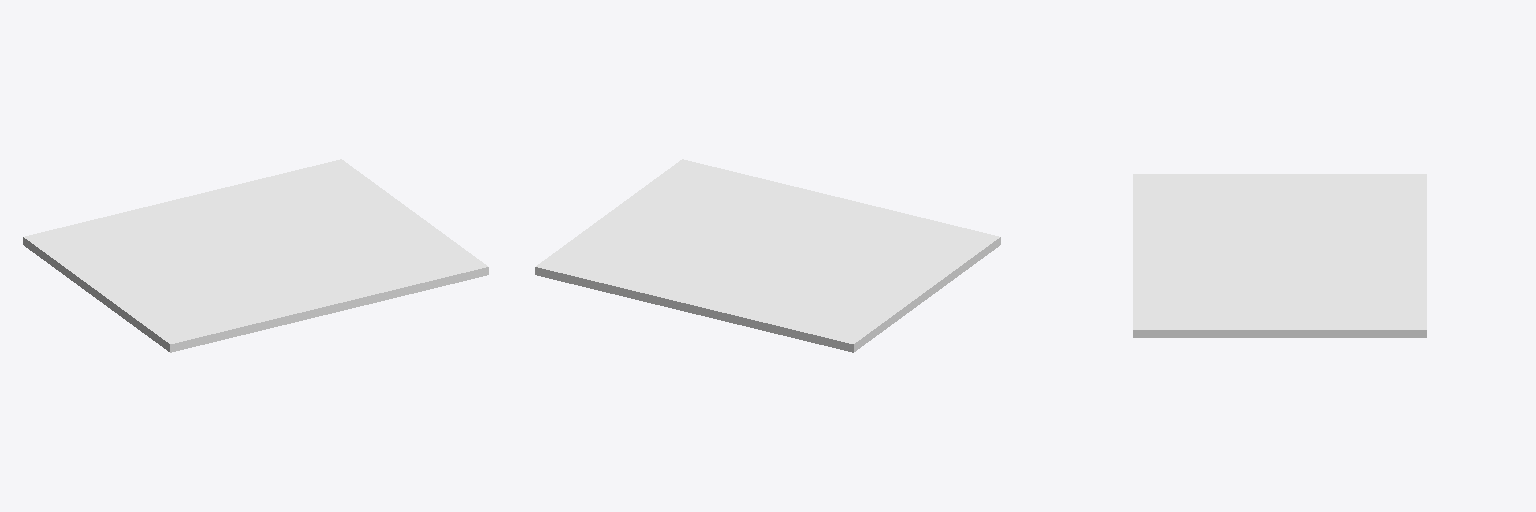
Rendered from RoomOneFloor.obj.
3 renders of one model, left to right at view 1: azimuth 30°, elevation 25°; view 2: azimuth 150°, elevation 25°; view 3: azimuth 270°, elevation 25°, orthographic.
Size of the model in its own units: 40 by 1 by 32.